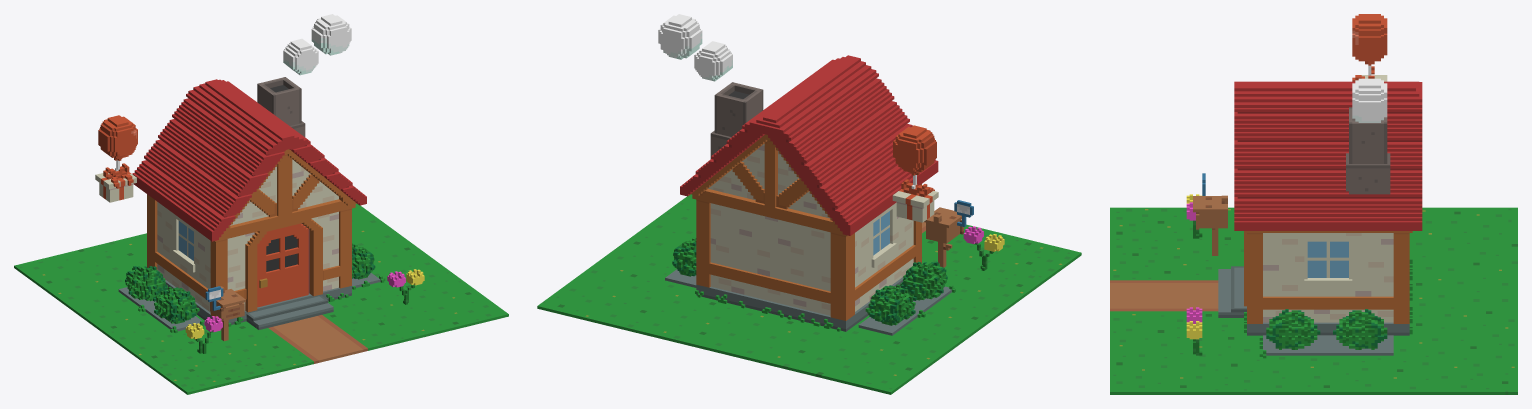
The model's file is ac house red.obj.
3 views of the same model, side by side, from view 1: azimuth 30°, elevation 25°; view 2: azimuth 150°, elevation 25°; view 3: azimuth 270°, elevation 25° (orthographic). The views are drawn at different scales.
Bounding box in the file's own units: 13.7 × 9.5 × 12.8.
Materials: 1 (1 with a texture image).
